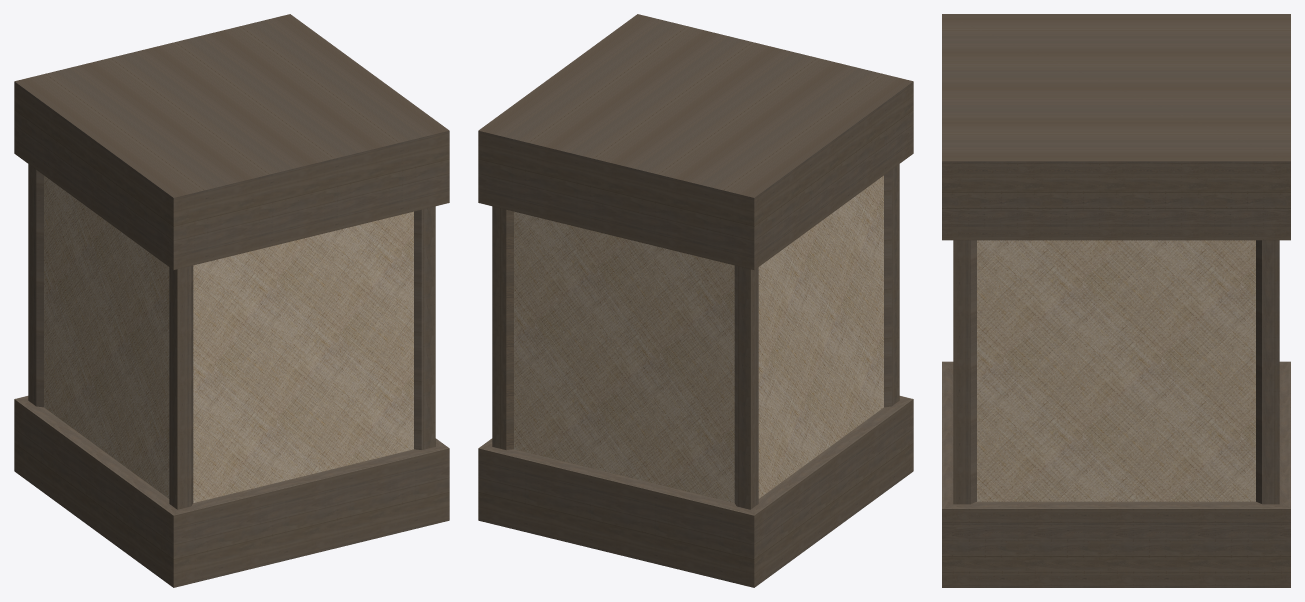
Rendered from galleryDisplay_Square.glb.
3 views of the same model, side by side, from view 1: azimuth 30°, elevation 25°; view 2: azimuth 150°, elevation 25°; view 3: azimuth 270°, elevation 25° (orthographic). The views are drawn at different scales.
Parts seen in each view (by area): view 1: Frame, Display, FrameSide; view 2: Frame, Display, FrameSide; view 3: Frame, Display, FrameSide.
Boxes of the visible parts, x1,y1,x2,y2 form: Frame: (14, 14, 449, 587); Display: (44, 175, 413, 502); FrameSide: (28, 164, 435, 509); Frame: (478, 14, 913, 587); Display: (514, 175, 883, 502); FrameSide: (492, 164, 899, 509); Frame: (942, 14, 1290, 587); Display: (977, 240, 1255, 501); FrameSide: (953, 240, 1279, 504).
Size of what is drawn, in the model's own units: 4 by 5.4 by 4.
Materials: 3 (3 with a texture image).
